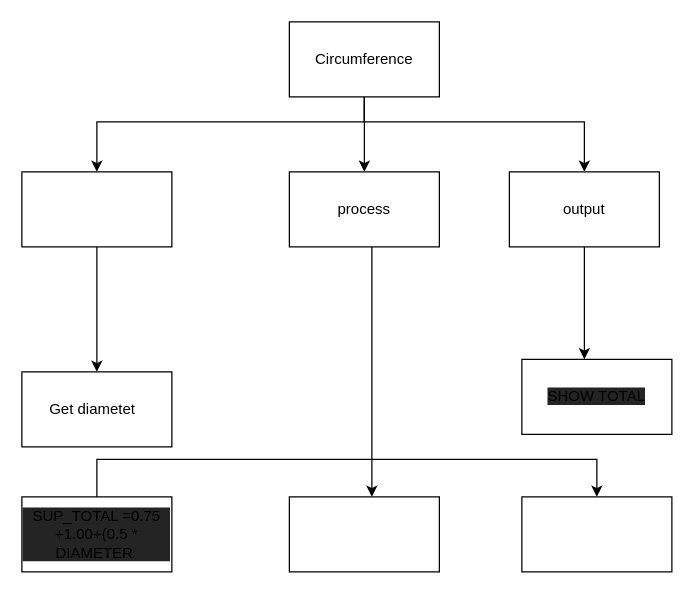
Some shapes in this 694 by 594 pixel diagram are drawn without their labels. Each missing label, with the box of its shape:
HST = SUP_TOTAL* 1.13: (288, 496, 439, 572)
input: (21, 171, 172, 247)
TOTAL = SUP_TOTAL + HST: (521, 496, 672, 572)
